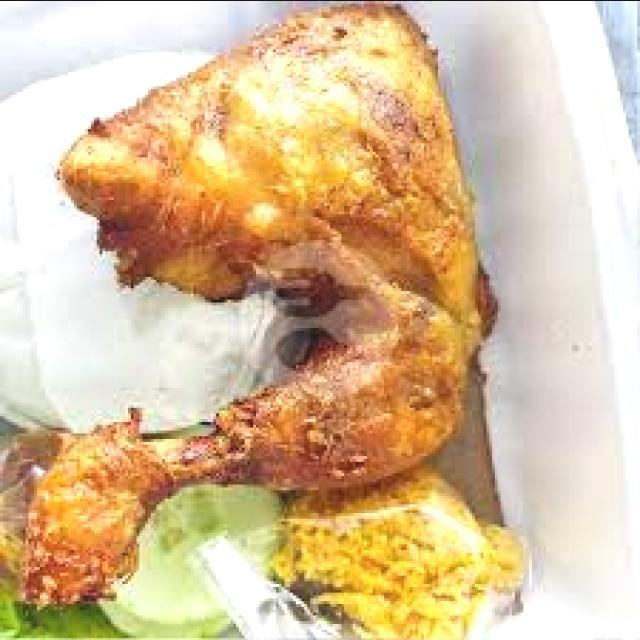ayam goreng: (0, 3, 484, 606)
